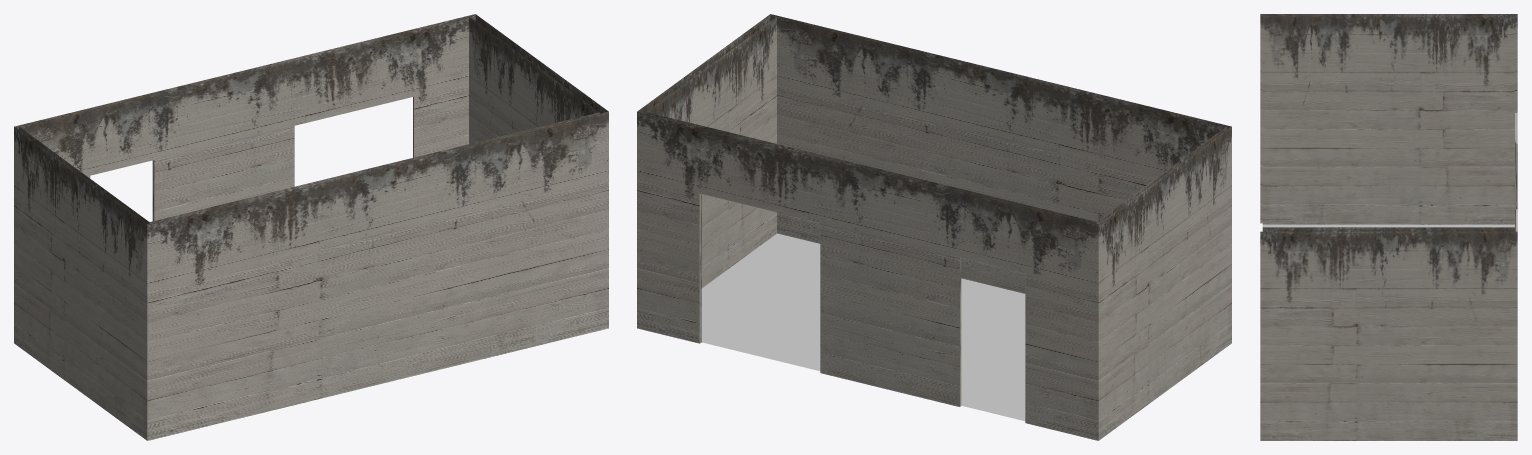
File: building.FBX
3 renders of one model, left to right at view 1: azimuth 30°, elevation 25°; view 2: azimuth 150°, elevation 25°; view 3: azimuth 270°, elevation 25°, orthographic. The views are drawn at different scales.
Visible parts, largest first — view 1: building; view 2: building; view 3: building.
Boxes of the visible parts, x1,y1,x2,y2 form: building: (14,14,608,440); building: (637,14,1231,440); building: (1260,14,1517,440).
Bounding box in the file's own units: 750 × 337 × 375.
